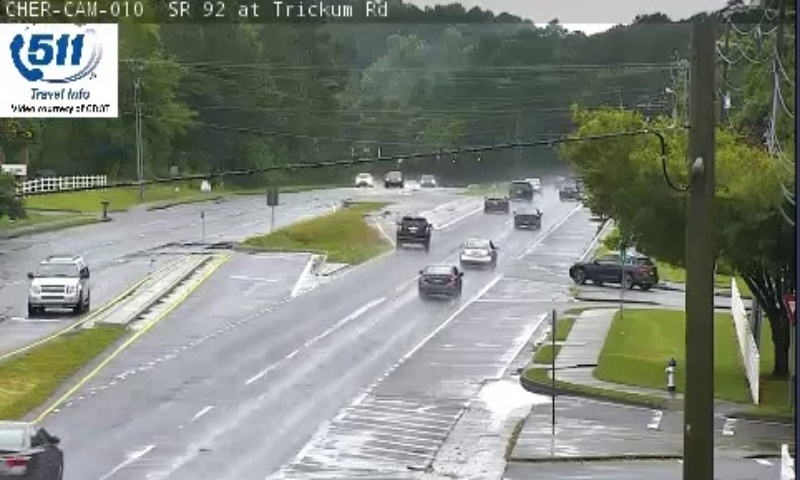car: (418, 265, 459, 297), (459, 238, 496, 267), (396, 216, 429, 245), (514, 206, 541, 228), (483, 193, 510, 214)
